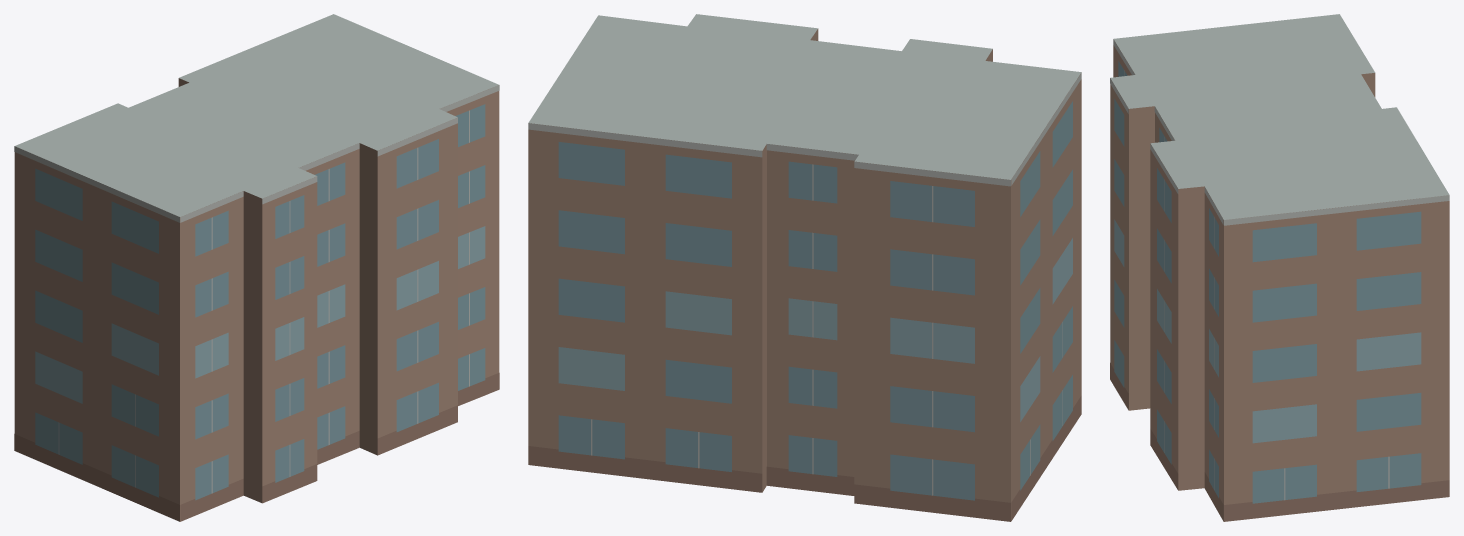
Rendered from survey-upis-32650726.glb.
The picture shows the model from 3 angles, left to right: view 1: azimuth 30°, elevation 25°; view 2: azimuth 150°, elevation 25°; view 3: azimuth 270°, elevation 25°; orthographic projection. The views are drawn at different scales.
Parts seen in each view (by area): view 1: survey-upis-32650726.tmp; view 2: survey-upis-32650726.tmp; view 3: survey-upis-32650726.tmp.
Part boxes in pixels (x1=…): survey-upis-32650726.tmp: x1=14, y1=14, x2=499, y2=521; survey-upis-32650726.tmp: x1=528, y1=14, x2=1081, y2=521; survey-upis-32650726.tmp: x1=1110, y1=14, x2=1449, y2=521.
Bounding box in the file's own units: 18.75 × 12.8 × 13.06.
